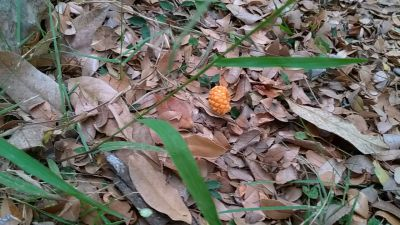eggs: (206, 81, 234, 115)
